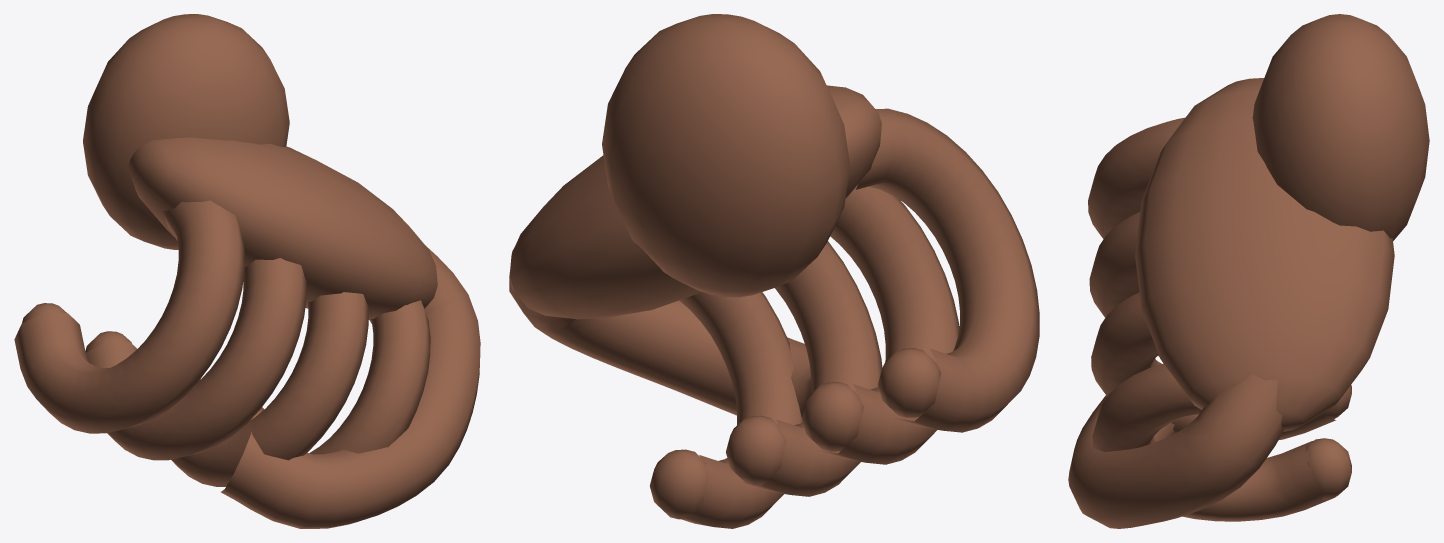
The model's file is right-hand-grip.glb.
The picture shows the model from 3 angles, left to right: view 1: azimuth 30°, elevation 25°; view 2: azimuth 150°, elevation 25°; view 3: azimuth 270°, elevation 25°; orthographic projection. The views are drawn at different scales.
Visible parts, largest first — view 1: right_hand_grip; view 2: right_hand_grip; view 3: right_hand_grip.
Part boxes in pixels (box(x1,y1,x2,y2)): right_hand_grip: box(14, 14, 480, 528); right_hand_grip: box(509, 14, 1039, 528); right_hand_grip: box(1068, 14, 1429, 528).
Bounding box in the file's own units: 0.1015 × 0.1059 × 0.0724.
